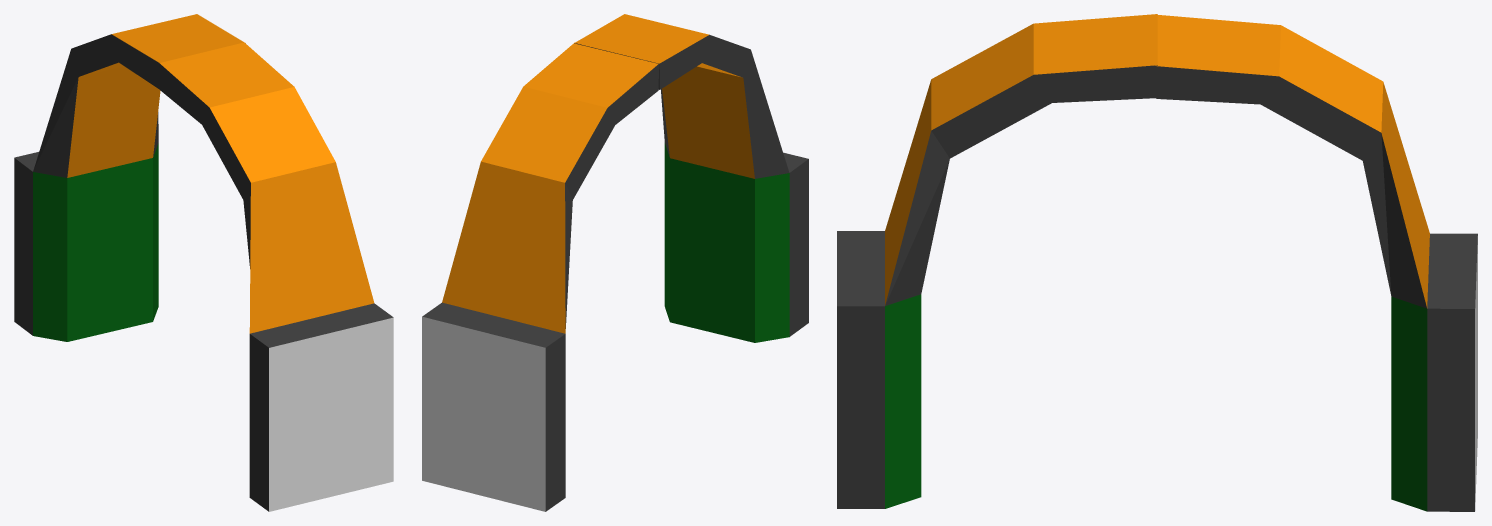
Rendered from headsets.obj.
The picture shows the model from 3 angles, left to right: view 1: azimuth 30°, elevation 25°; view 2: azimuth 150°, elevation 25°; view 3: azimuth 270°, elevation 25°; orthographic projection. The views are drawn at different scales.
Visible parts, largest first — view 1: Cube.001_Cube.004; view 2: Cube.001_Cube.004; view 3: Cube.001_Cube.004.
Part boxes in pixels (x1,y1,x2,y2): Cube.001_Cube.004: (14, 14, 393, 511); Cube.001_Cube.004: (422, 14, 808, 511); Cube.001_Cube.004: (837, 14, 1477, 511).
Size of the model in its own units: 3.03 by 7.86 by 10.56.
